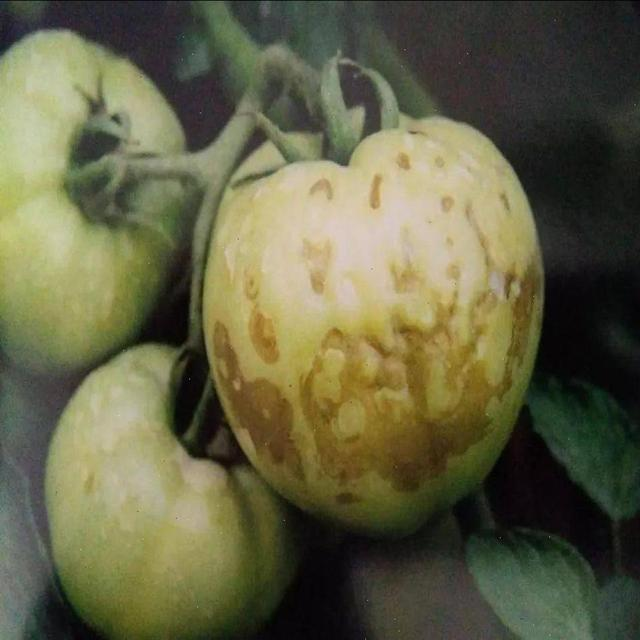Spotted wilt Virus Fruit: (132, 77, 364, 353)
